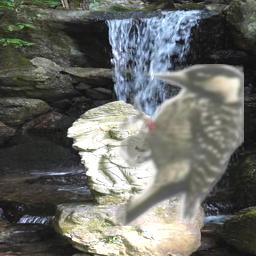Woodpecker: (114, 64, 244, 226)
